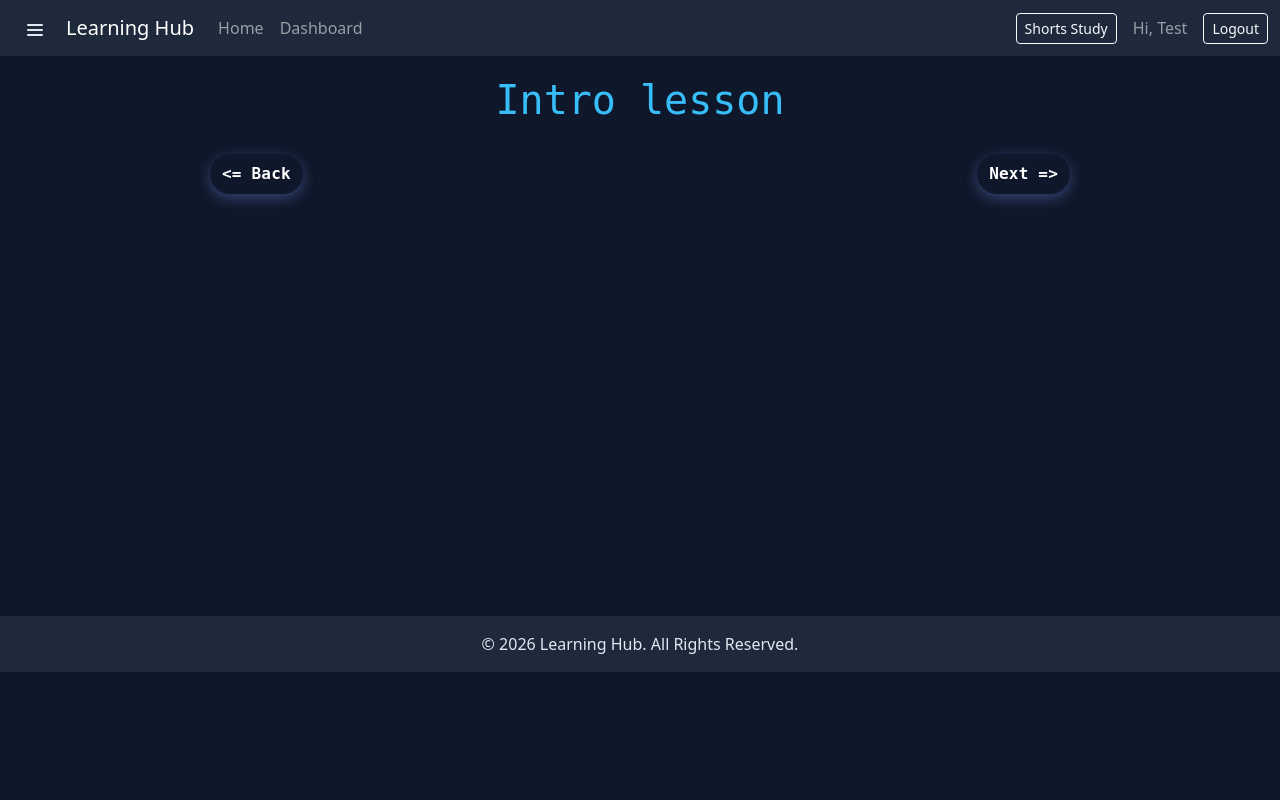
Test: lesson navigation › opens and closes the topics sidebar and lists every topic
Expected: the heading "Intro lesson" is shown, [496,77,784,123]
Click the button named "Toggle topics sidebar": (35, 28) [12,9,58,47]
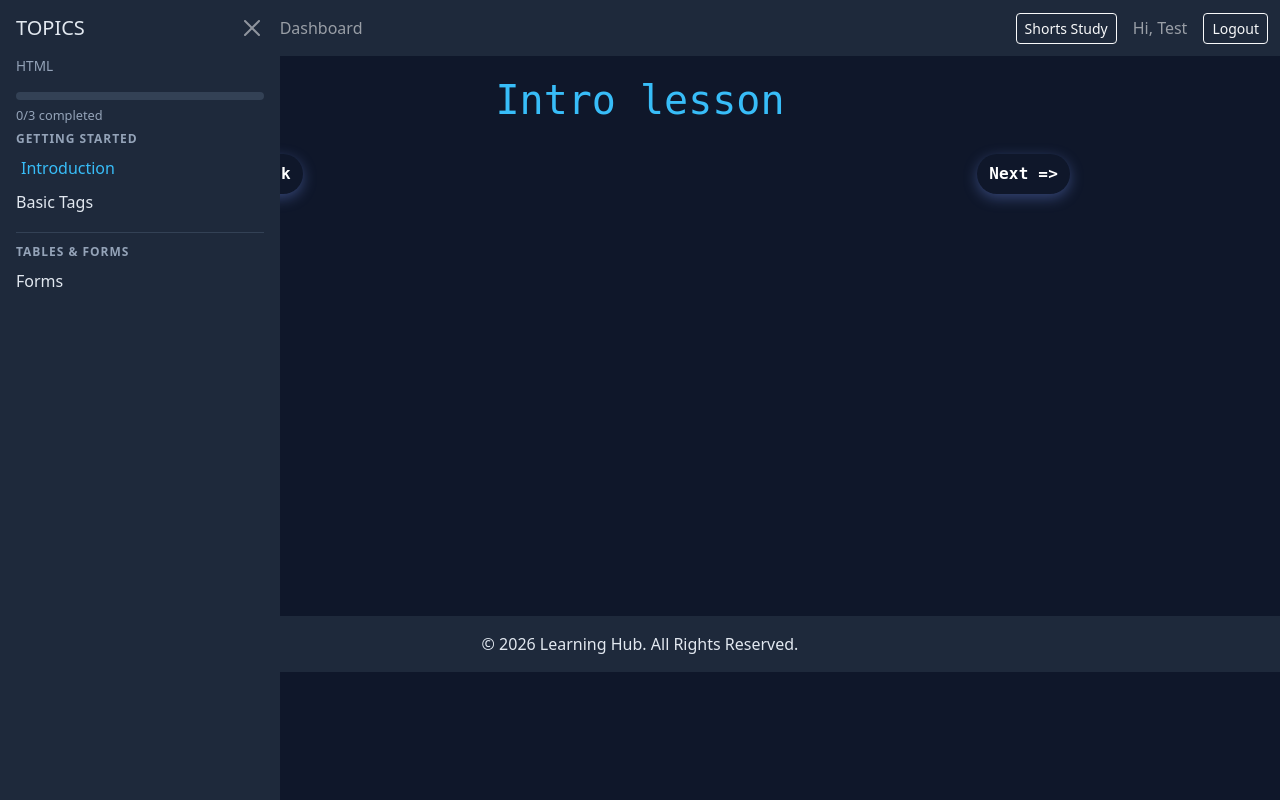
Expected: the element with class "topics-sidebar" has attribute aria-hidden="false", [0,0,280,799]
Expected: the element with class "topics-sidebar" has class "is-open", [0,0,280,799]
Click the link "Forms": (40, 281) [16,270,63,292]
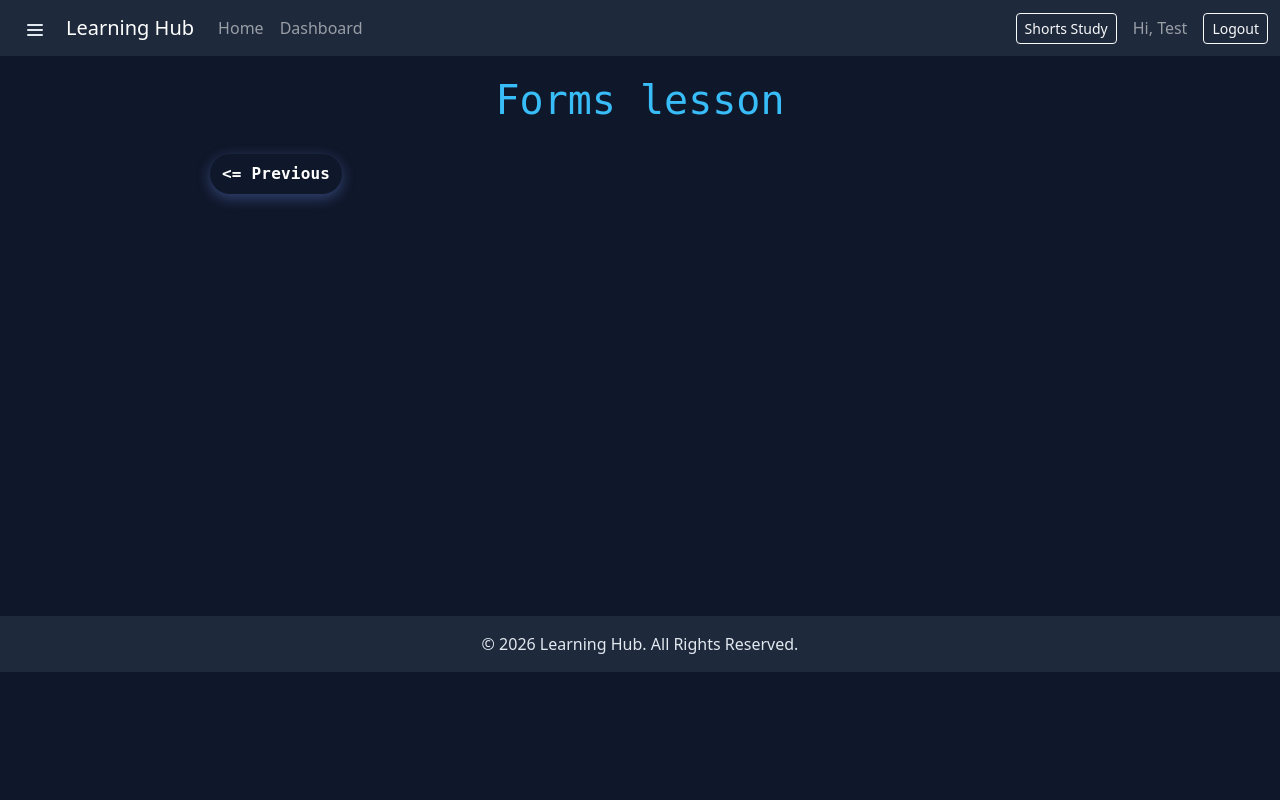
Expected: the heading "Forms lesson" is shown, [496,77,784,123]
